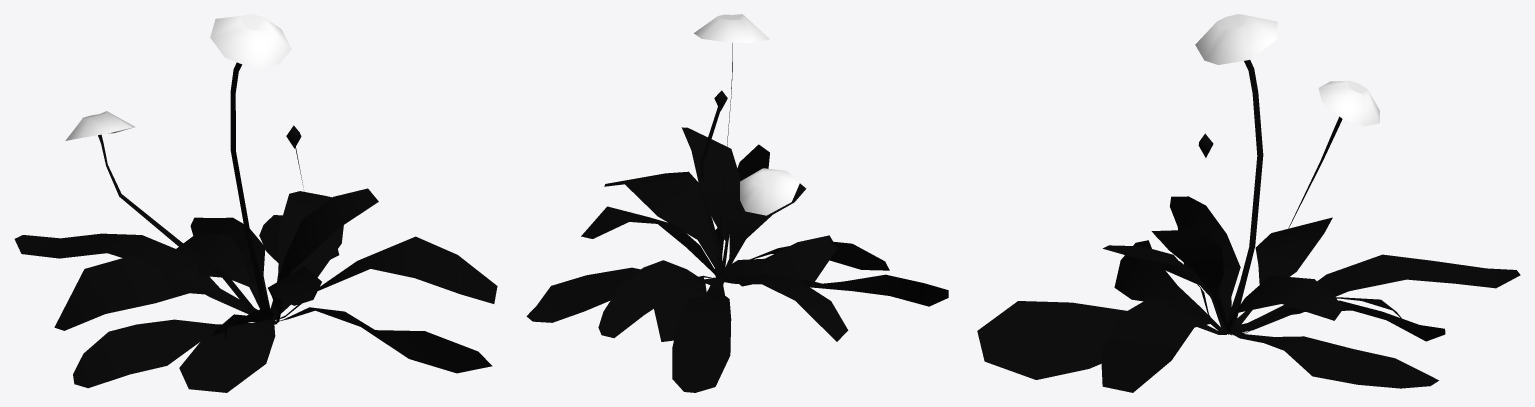
File: dandelionA.glb
3 views of the same model, side by side, from view 1: azimuth 30°, elevation 25°; view 2: azimuth 150°, elevation 25°; view 3: azimuth 270°, elevation 25° (orthographic). The views are drawn at different scales.
Parts seen in each view (by area): view 1: dandelion_01_a_LOD3; view 2: dandelion_01_a_LOD3; view 3: dandelion_01_a_LOD3.
Boxes of the visible parts, x1,y1,x2,y2 form: dandelion_01_a_LOD3: (14, 14, 497, 392); dandelion_01_a_LOD3: (526, 14, 948, 392); dandelion_01_a_LOD3: (977, 14, 1520, 392).
Bounding box in the file's own units: 0.2179 × 0.1588 × 0.2509.
Materials: 1 (1 with a texture image).
